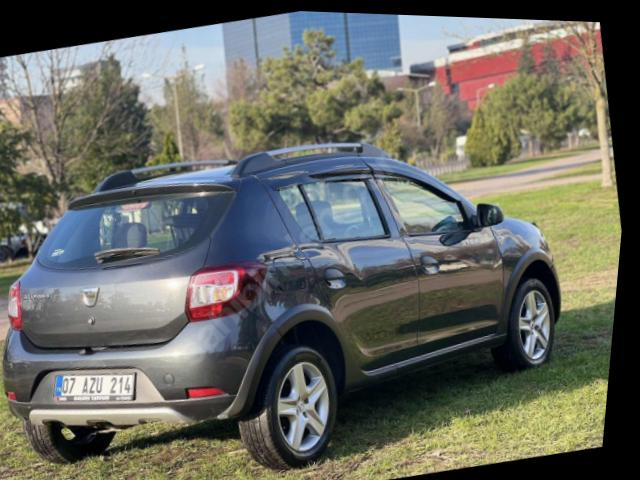plaka: (53, 369, 136, 401)
